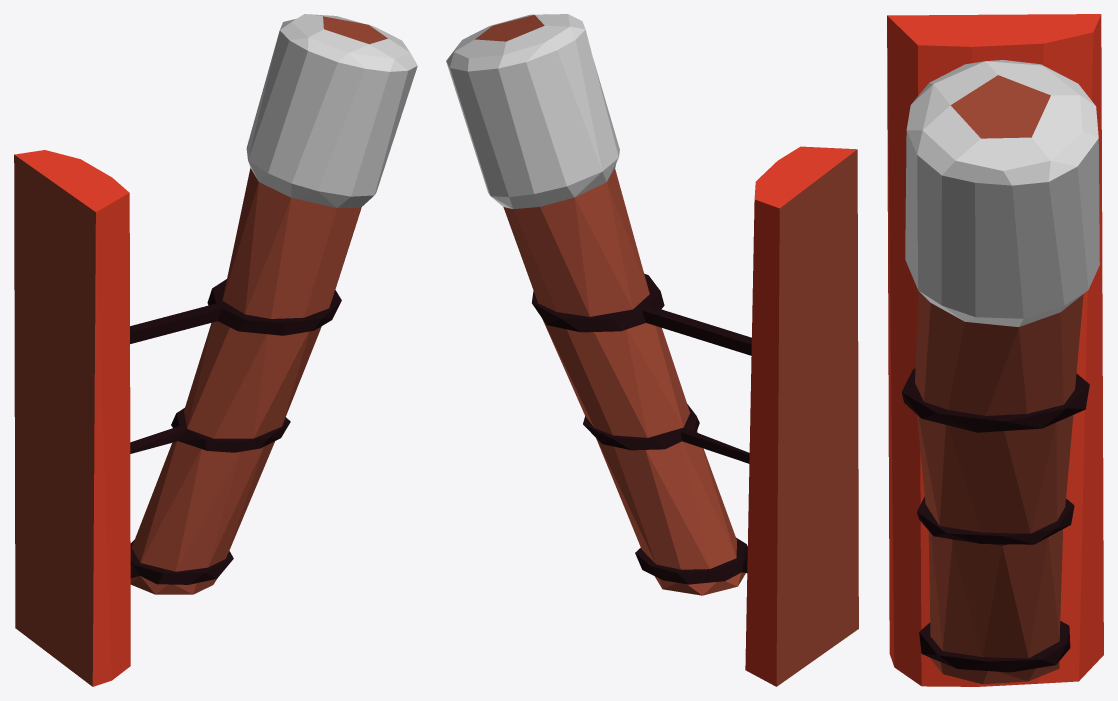
File: TorchA.fbx
3 views of the same model, side by side, from view 1: azimuth 30°, elevation 25°; view 2: azimuth 150°, elevation 25°; view 3: azimuth 270°, elevation 25° (orthographic). The views are drawn at different scales.
Visible parts, largest first — view 1: Torch; view 2: Torch; view 3: Torch.
Part boxes in pixels (x1,y1,x2,y2): Torch: [14, 14, 417, 686]; Torch: [446, 14, 858, 686]; Torch: [887, 14, 1103, 686].
Size of the model in its own units: 49.07 by 75.02 by 19.47.
